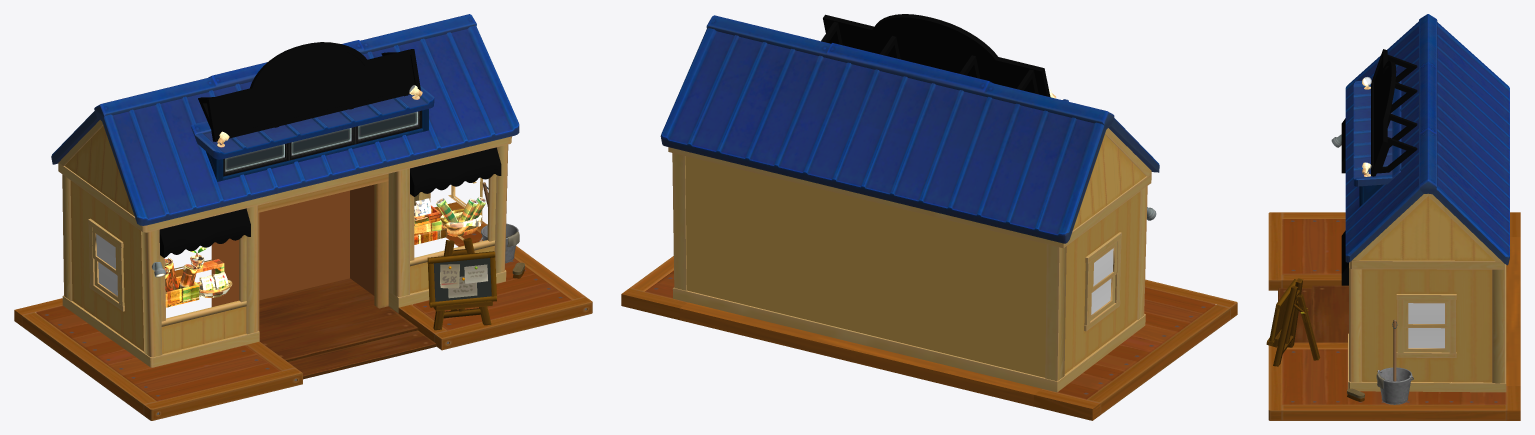
The model's file is shop-market.glb.
The picture shows the model from 3 angles, left to right: view 1: azimuth 30°, elevation 25°; view 2: azimuth 150°, elevation 25°; view 3: azimuth 270°, elevation 25°; orthographic projection. The views are drawn at different scales.
Parts seen in each view (by area): view 1: Door_Dark__mWall, FtrBucket_pPipe5__mRoofDeck, inside__mSign, Body_toziru7__mItem, shape7__mRoofWindow, polySurface1341__mSideWindow; view 2: FtrBucket_pPipe5__mRoofDeck, Door_Dark__mWall, inside__mSign, polySurface1341__mSideWindow; view 3: FtrBucket_pPipe5__mRoofDeck, Door_Dark__mWall, inside__mSign, polySurface1341__mSideWindow.
Boxes of the visible parts, x1,y1,x2,y2 form: Door_Dark__mWall: (58, 86, 511, 379); FtrBucket_pPipe5__mRoofDeck: (14, 14, 592, 420); inside__mSign: (159, 42, 501, 257); Body_toziru7__mItem: (164, 85, 486, 307); shape7__mRoofWindow: (225, 111, 418, 171); polySurface1341__mSideWindow: (96, 234, 117, 295); FtrBucket_pPipe5__mRoofDeck: (621, 15, 1237, 420); Door_Dark__mWall: (668, 99, 1151, 392); inside__mSign: (821, 14, 1050, 97); polySurface1341__mSideWindow: (1091, 248, 1113, 314); FtrBucket_pPipe5__mRoofDeck: (1266, 14, 1520, 420); Door_Dark__mWall: (1278, 73, 1506, 392); inside__mSign: (1341, 49, 1417, 285); polySurface1341__mSideWindow: (1408, 303, 1444, 348).
Bounding box in the file's own units: 66.52 × 39.29 × 36.01.
Materials: 7 (5 with a texture image).
